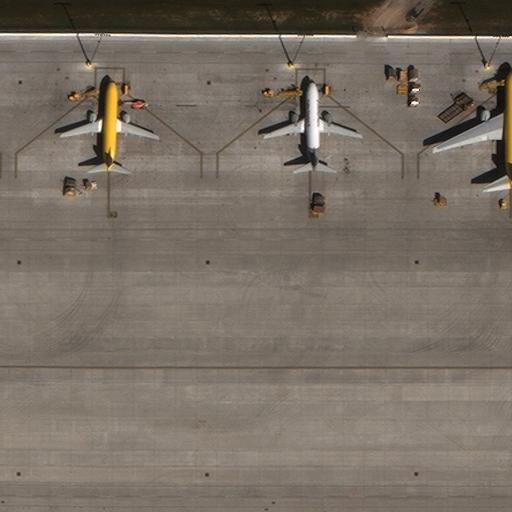Large Civil Transport: (434, 70, 511, 191)
Medium Civil Transport: (60, 76, 158, 172), (264, 79, 362, 171)
